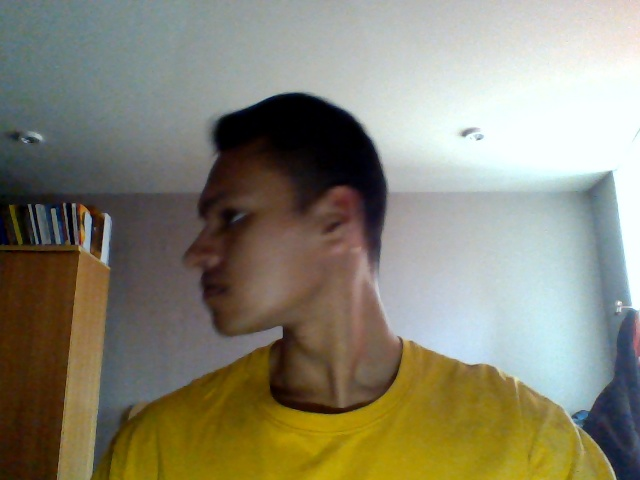no_mask: (178, 232, 313, 342)
